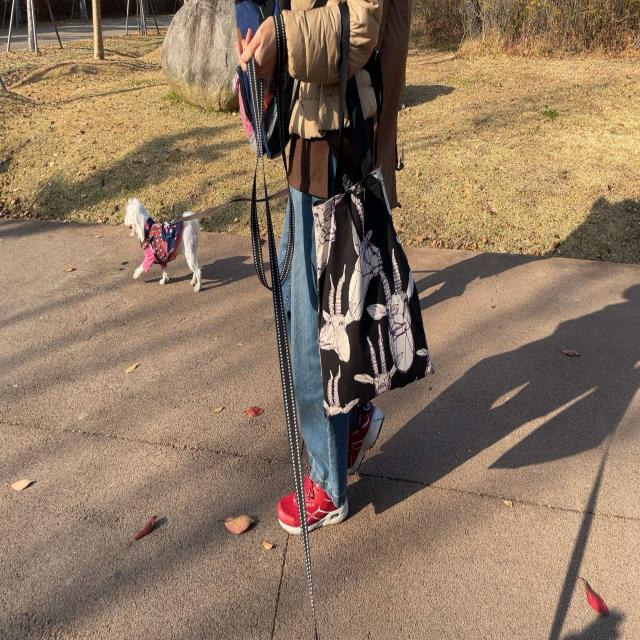Dog: (122, 195, 203, 292)
